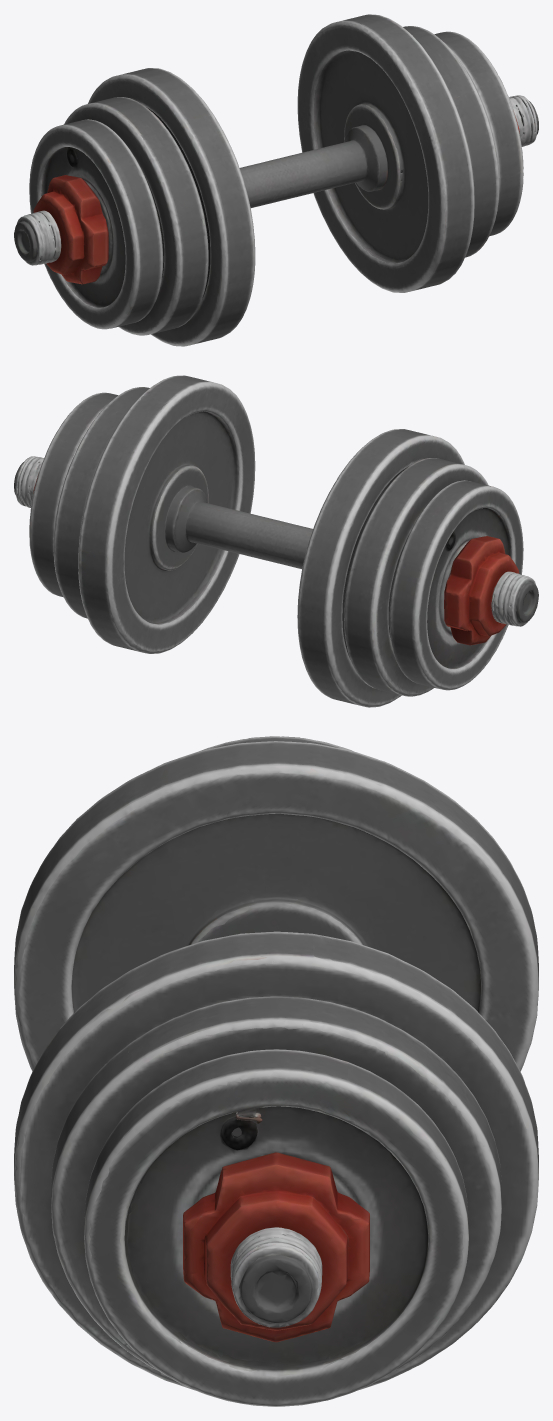
File: dumbbell-raw.glb
3 views of the same model, one above another, from view 1: azimuth 30°, elevation 25°; view 2: azimuth 150°, elevation 25°; view 3: azimuth 270°, elevation 25° (orthographic). The views are drawn at different scales.
Visible parts, largest first — view 1: world; view 2: world; view 3: world.
Part boxes in pixels (x1,y1,x2,y2): world: (14, 14, 538, 346); world: (14, 375, 538, 707); world: (14, 736, 538, 1406).
Bounding box in the file's own units: 1 × 0.4742 × 0.5052.
Materials: 1 (1 with a texture image).
